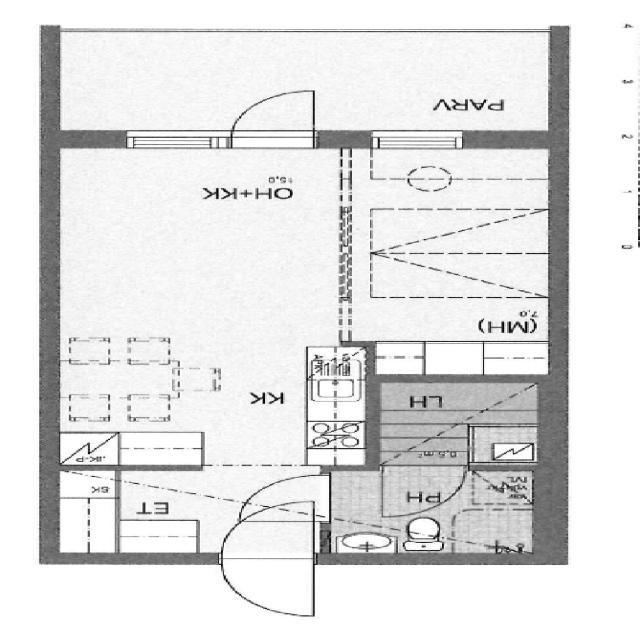door: (210, 502, 326, 615), (236, 87, 334, 146), (249, 477, 348, 523)
window: (117, 121, 224, 151), (367, 130, 472, 152)
zone: (52, 142, 371, 464), (371, 144, 561, 379), (326, 466, 548, 555), (366, 377, 550, 465)
